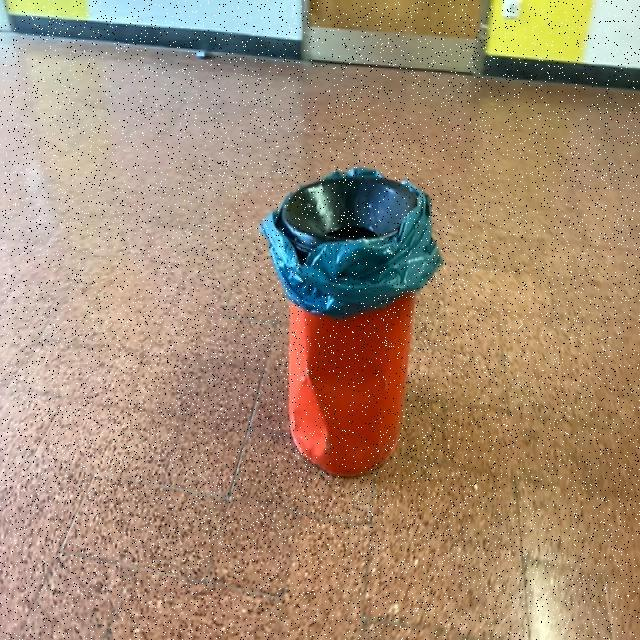garbage container: (252, 121, 478, 536)
